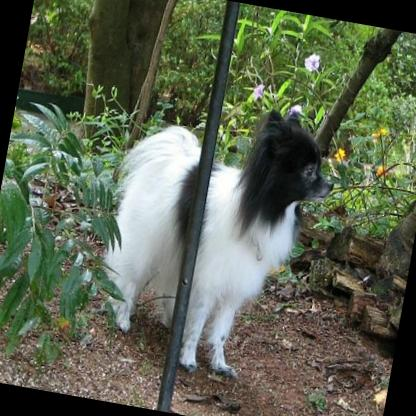Pomeranian: (85, 84, 345, 392)
